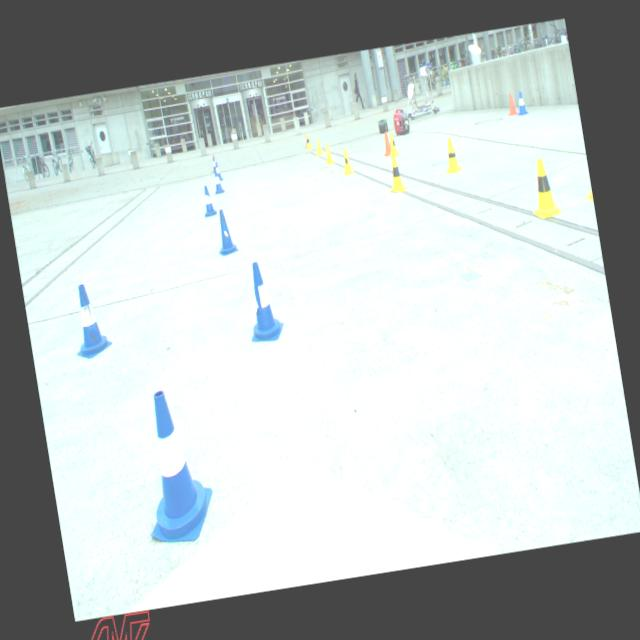blue_cone: (130, 385, 220, 549), (65, 280, 114, 362), (240, 260, 284, 344), (212, 207, 239, 256), (200, 185, 217, 218), (515, 90, 529, 115), (211, 170, 224, 194), (212, 161, 224, 181), (211, 157, 220, 172)
orange_cone: (381, 132, 394, 156), (505, 92, 518, 115), (210, 154, 220, 169), (304, 134, 311, 148)
yellow_cone: (525, 156, 564, 220), (440, 136, 464, 176), (385, 156, 407, 194), (385, 158, 407, 195), (339, 147, 355, 175), (386, 131, 400, 158), (322, 142, 336, 165), (314, 137, 324, 156), (304, 134, 312, 150)
